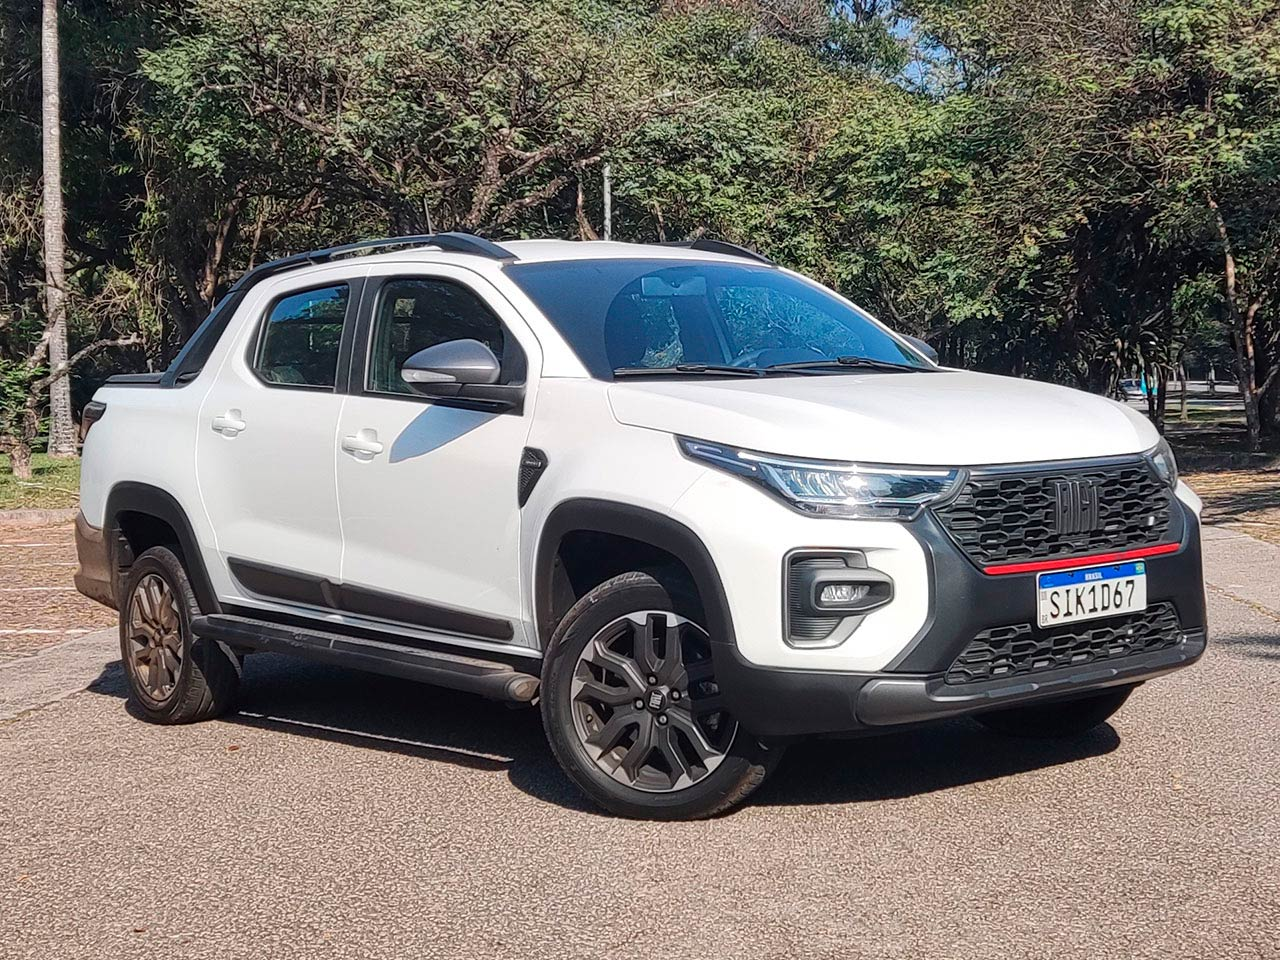car: (84, 260, 1203, 831)
car_plate: (1031, 560, 1149, 631)
